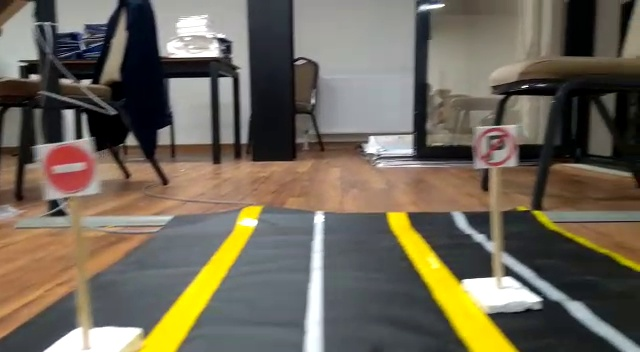girisi_olmayan_yol: (37, 141, 98, 196)
park_yapilmaz: (472, 123, 520, 167)
